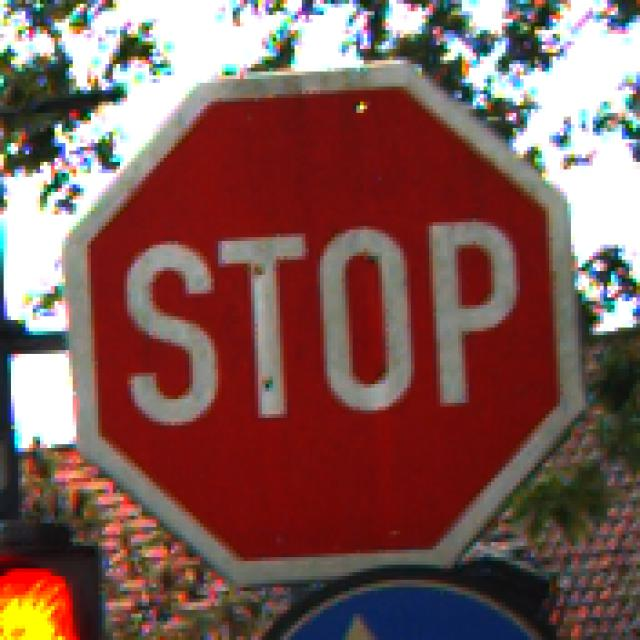STOP: (59, 58, 587, 585)
